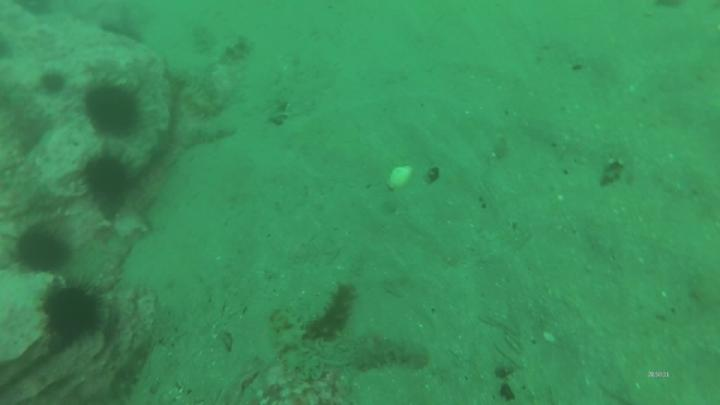echinus: (38, 281, 108, 349), (79, 81, 144, 140), (81, 147, 136, 205), (15, 222, 73, 277), (38, 69, 70, 98)
holothurian: (314, 333, 434, 376), (266, 305, 319, 384), (307, 280, 360, 342), (163, 69, 222, 105), (169, 123, 239, 152), (179, 85, 222, 117), (189, 22, 219, 60)
scallop: (383, 163, 418, 194)
